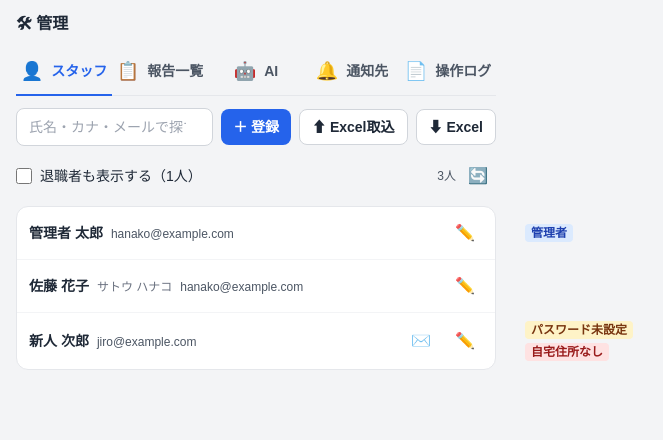
管理タブ: スタッフ › 在籍者を一覧にし、役割・パスワード・自宅住所のバッジを出す。退職者は切り替えで出し、名前で探せる
The width and height of the screenshot is (663, 440).
Expected: the number of list items is 3, [17,207,495,259]; [17,259,495,312]; [17,312,495,369]
Expected: the text "管理者" is shown, [525,224,573,242]
Click the checkbox labelled "退職者も表示する（1人）" at (24, 176), box [16,168,32,184]
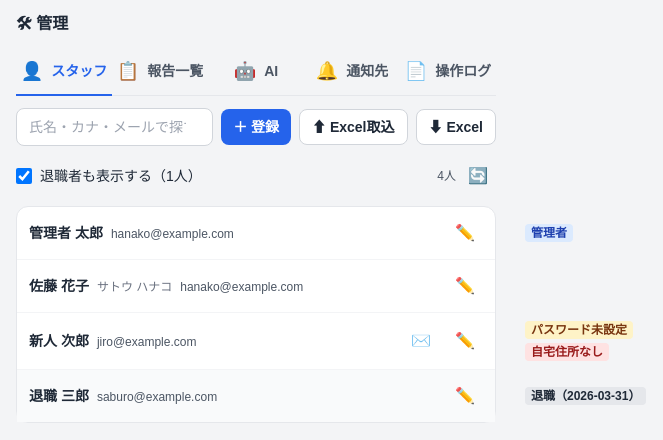
Expected: the heading "退職 三郎" is shown, [29,386,89,406]
Expected: the text "退職（2026-03-31）" is shown, [525,387,646,405]
Type "サトウ" into the search field named "スタッフを探す" at (115, 127), box [16,108,213,146]
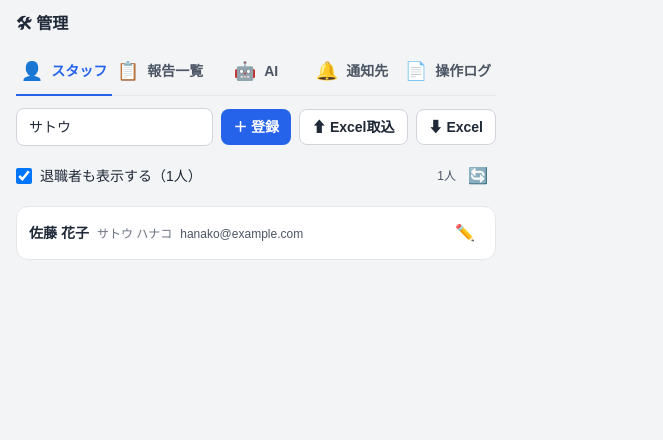
Expected: the number of list items is 1, [17,207,495,259]
